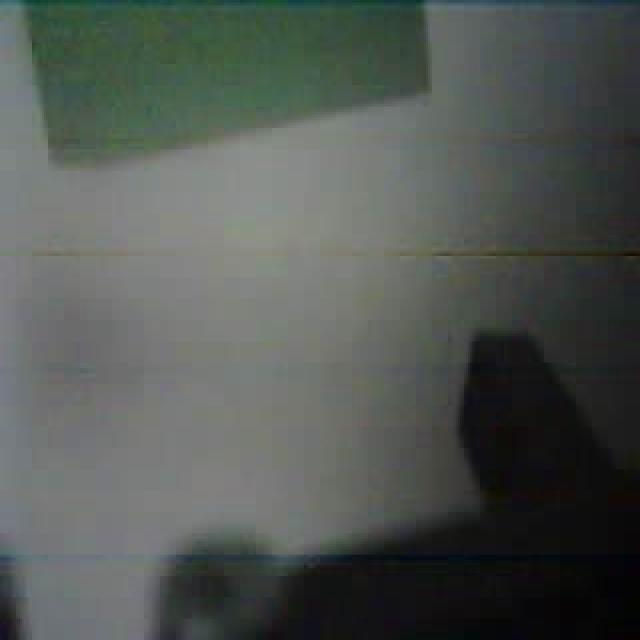green_box: (22, 0, 434, 171)
